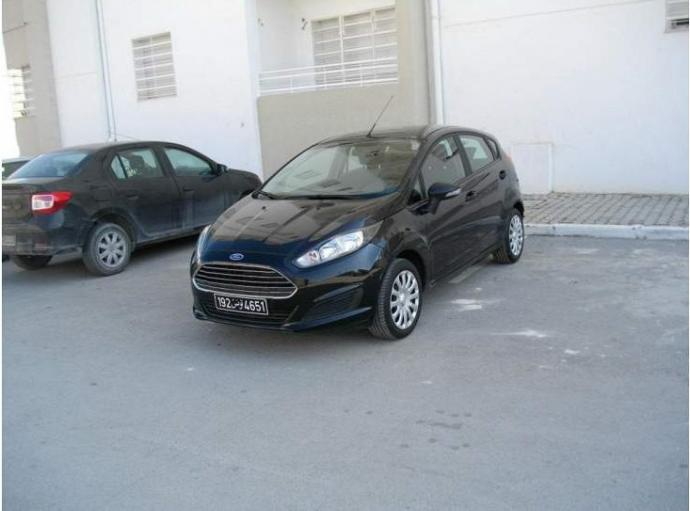LP: (212, 290, 272, 317)
